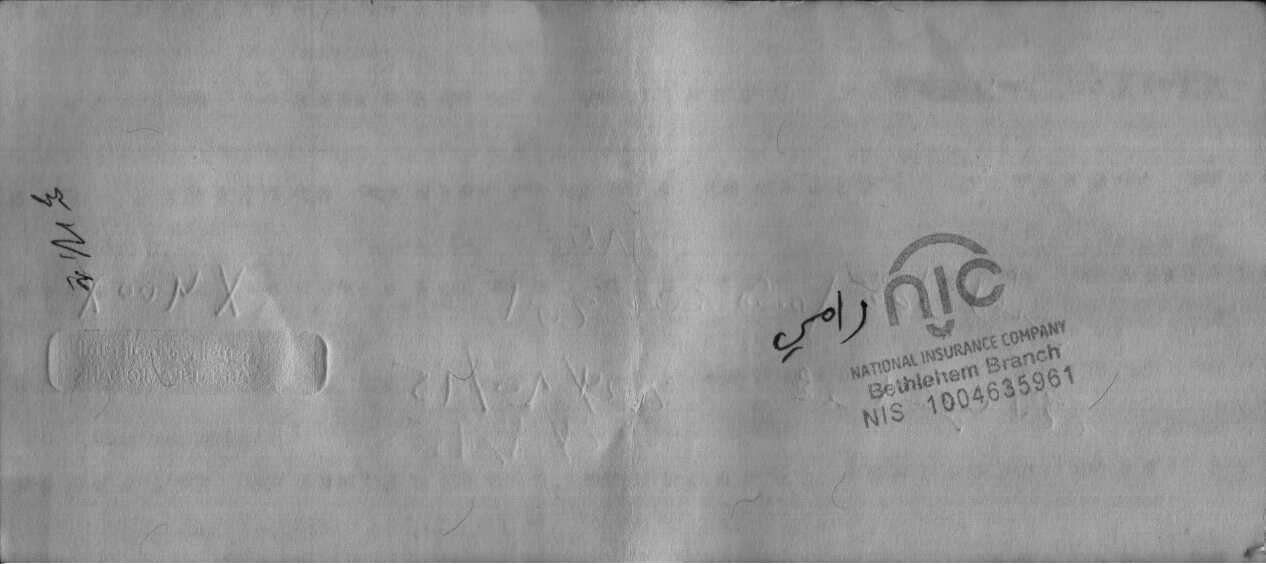stamp: (844, 226, 1081, 435)
